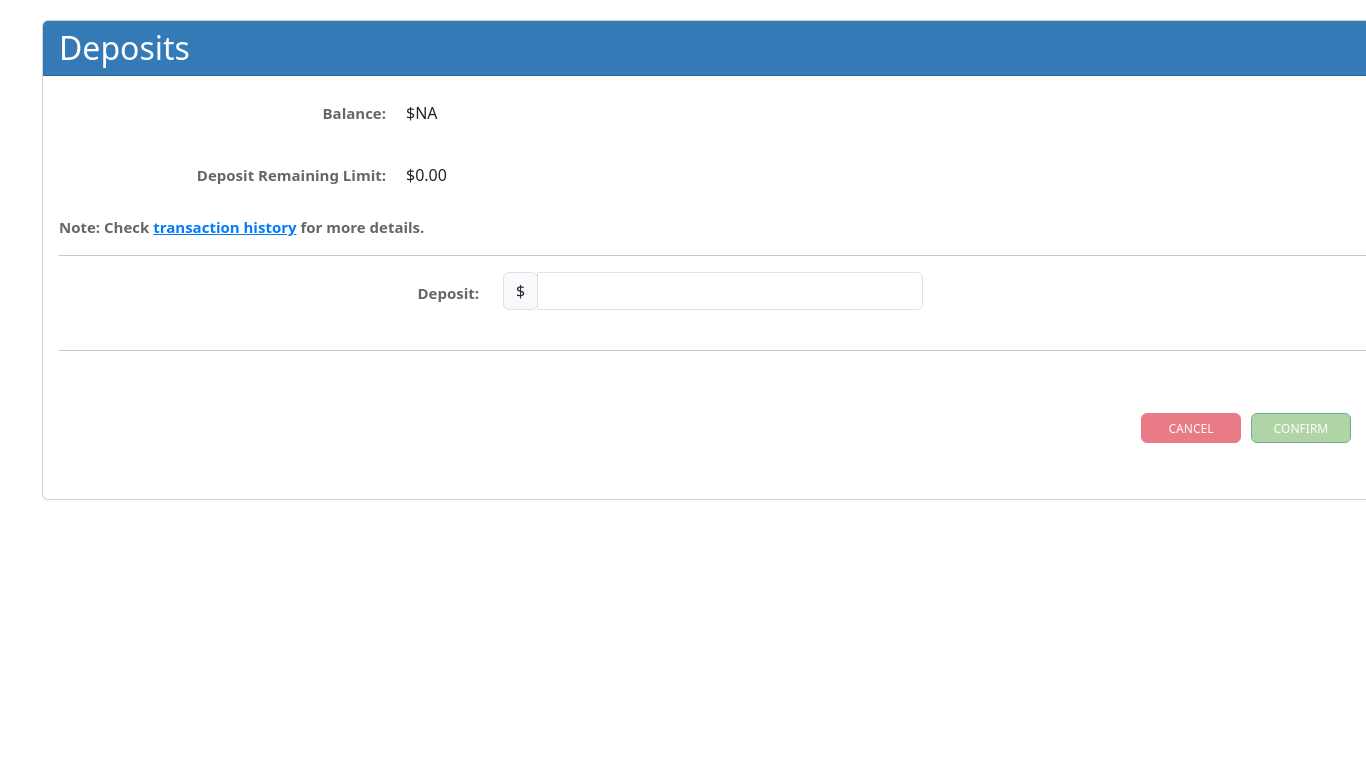
Test case: Deposits Component › should show deposit failure when user enters valid amount and click confirm then backend process fails
Type "100" into the field labelled "Deposit:". click: (730, 291)
box: top-left (537, 272), bottom-right (923, 310)
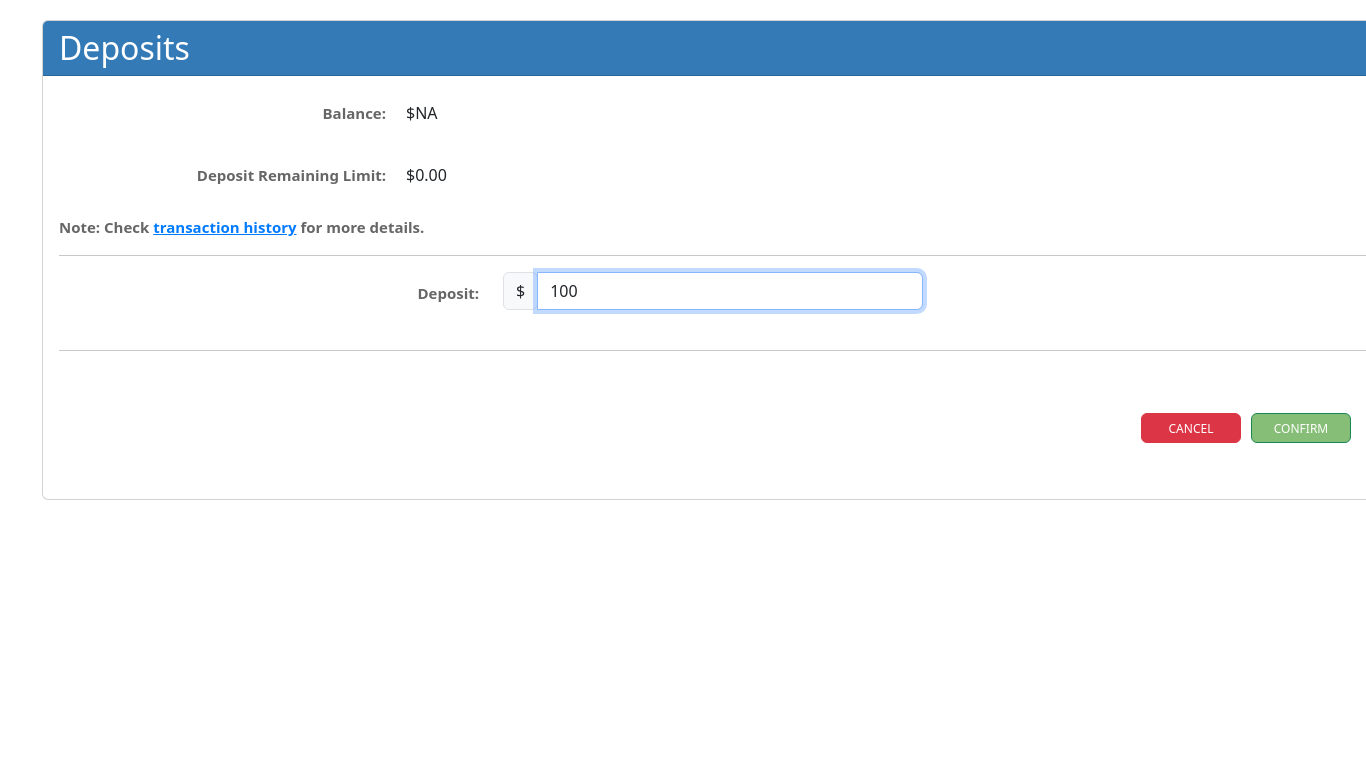
Click the button "Confirm". click: (1301, 428)
box: top-left (1251, 413), bottom-right (1351, 443)
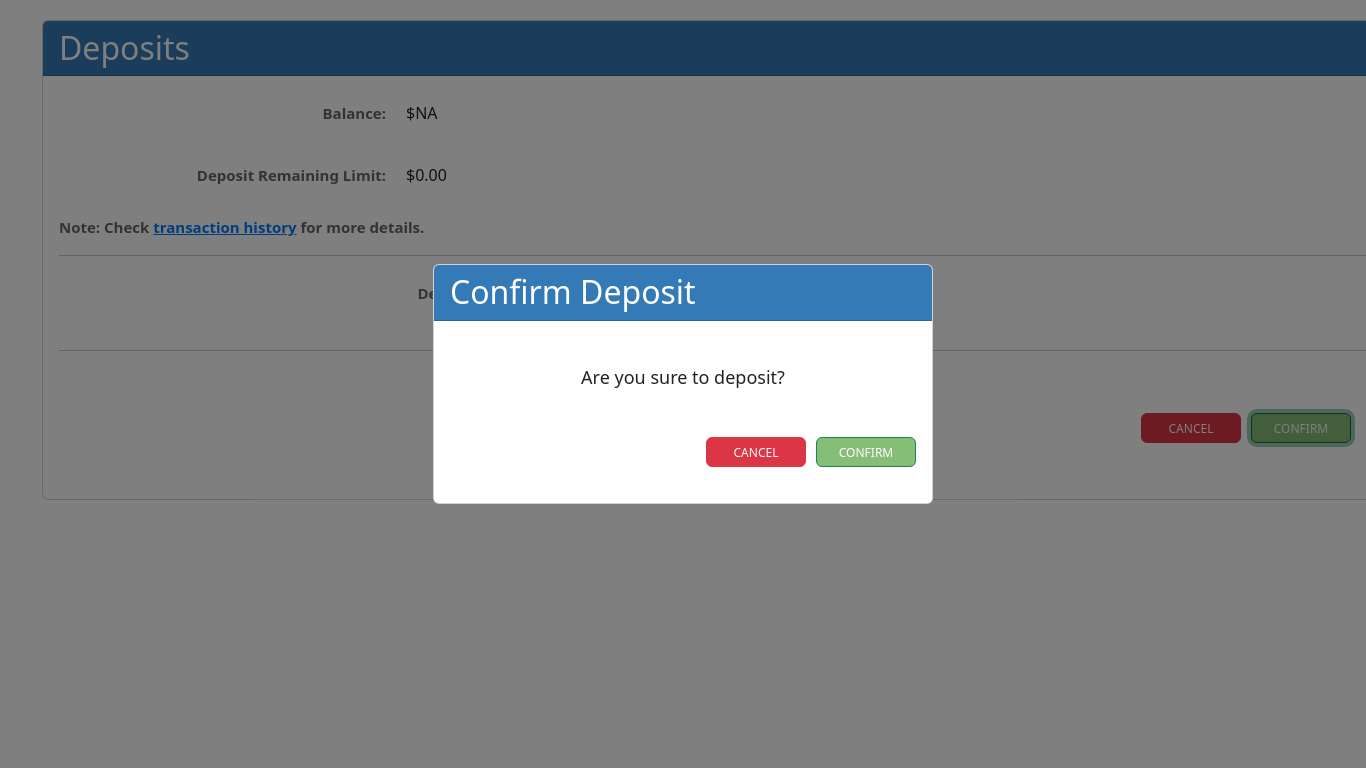
Click the button with test id "dialog-confirm". click: (866, 452)
box: top-left (816, 437), bottom-right (916, 467)
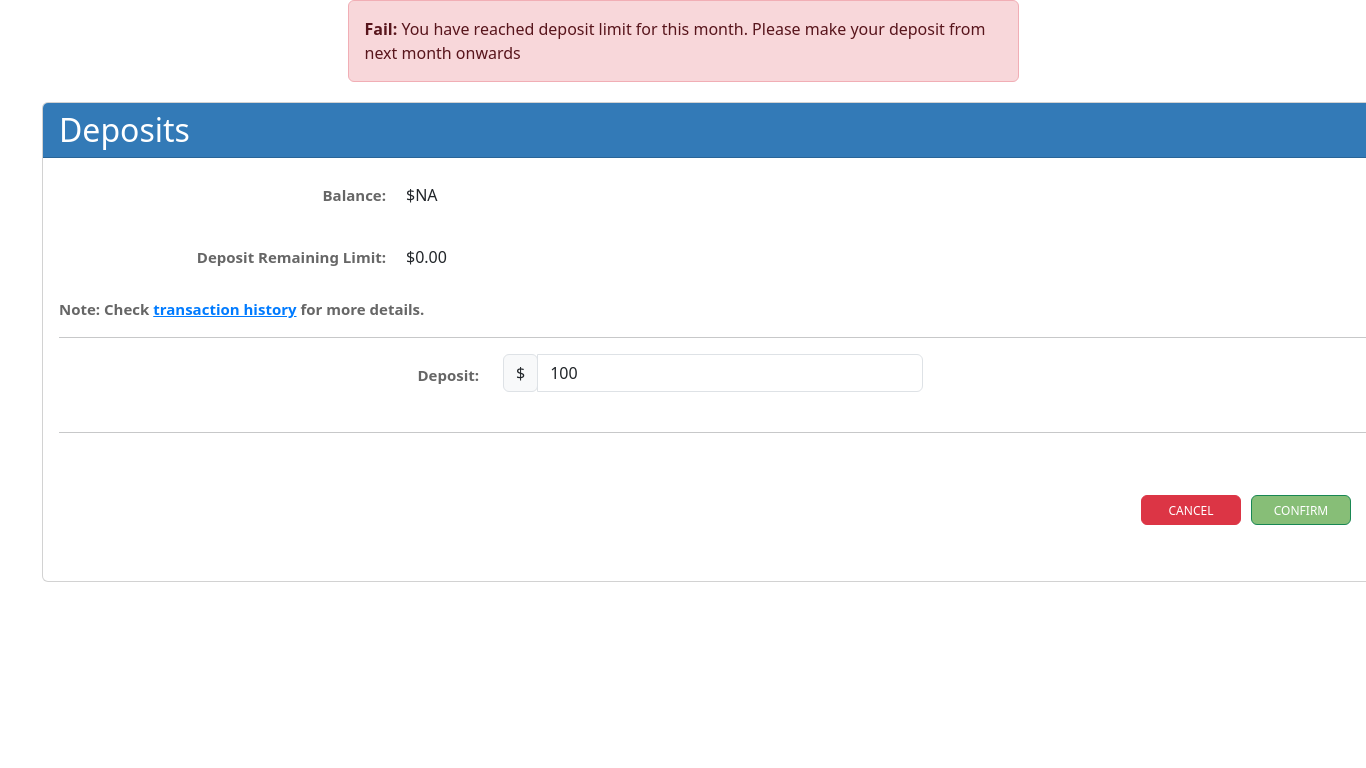
Expected: the text "You have reached deposit limit for this month. Please make your deposit from next month onwards" is shown, top-left (364, 18), bottom-right (986, 64)
